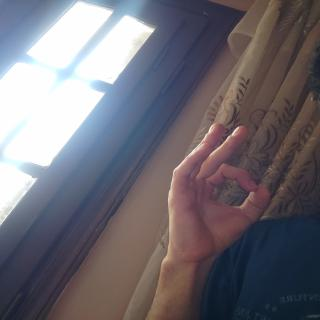Space: (165, 118, 275, 278)
